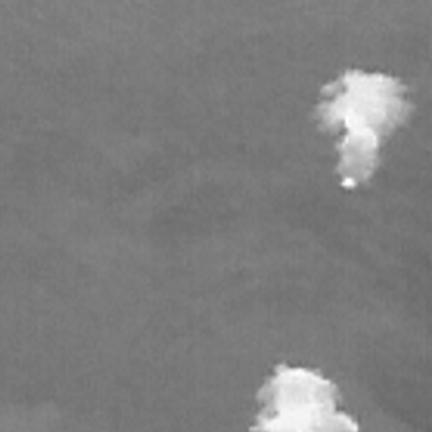flukeprints: (319, 70, 409, 186), (250, 364, 358, 431)
